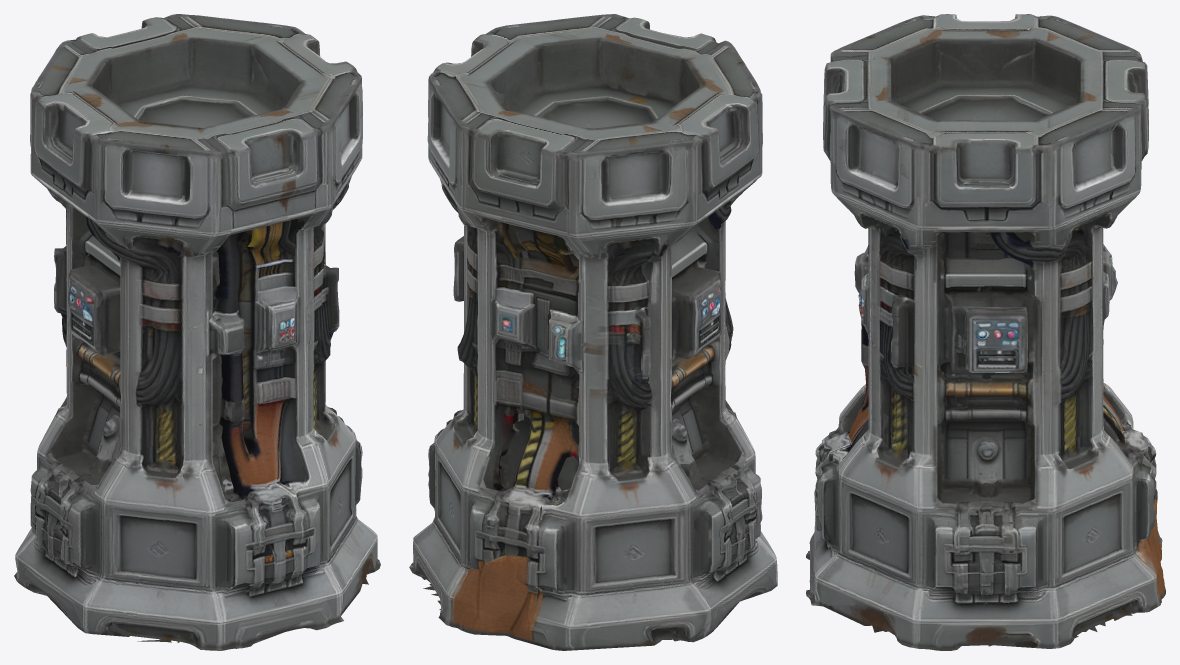
File: scifi--pillar--alpha.glb
3 views of the same model, side by side, from view 1: azimuth 30°, elevation 25°; view 2: azimuth 150°, elevation 25°; view 3: azimuth 270°, elevation 25° (orthographic).
Parts seen in each view (by area): view 1: SciFi Tower_0; view 2: SciFi Tower_0; view 3: SciFi Tower_0.
Boxes of the visible parts, x1=… form: SciFi Tower_0: x1=14, y1=14, x2=380, y2=650; SciFi Tower_0: x1=409, y1=14, x2=777, y2=650; SciFi Tower_0: x1=806, y1=14, x2=1165, y2=650.
Bounding box in the file's own units: 1.95 × 3 × 1.98.
Materials: 1 (1 with a texture image).
